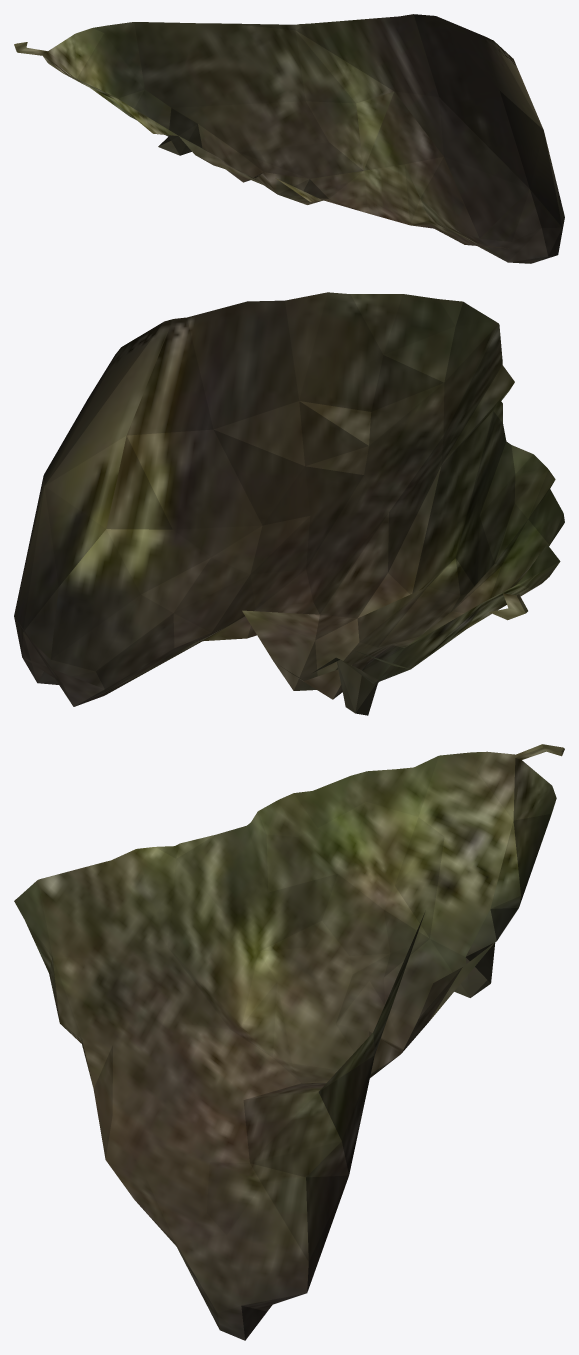
3 views of the same model, one above another, from view 1: azimuth 30°, elevation 25°; view 2: azimuth 150°, elevation 25°; view 3: azimuth 270°, elevation 25° (orthographic). The views are drawn at different scales.
Bounding box in the file's own units: 3.35 × 1.68 × 2.68.
1 material, 1 textured.
